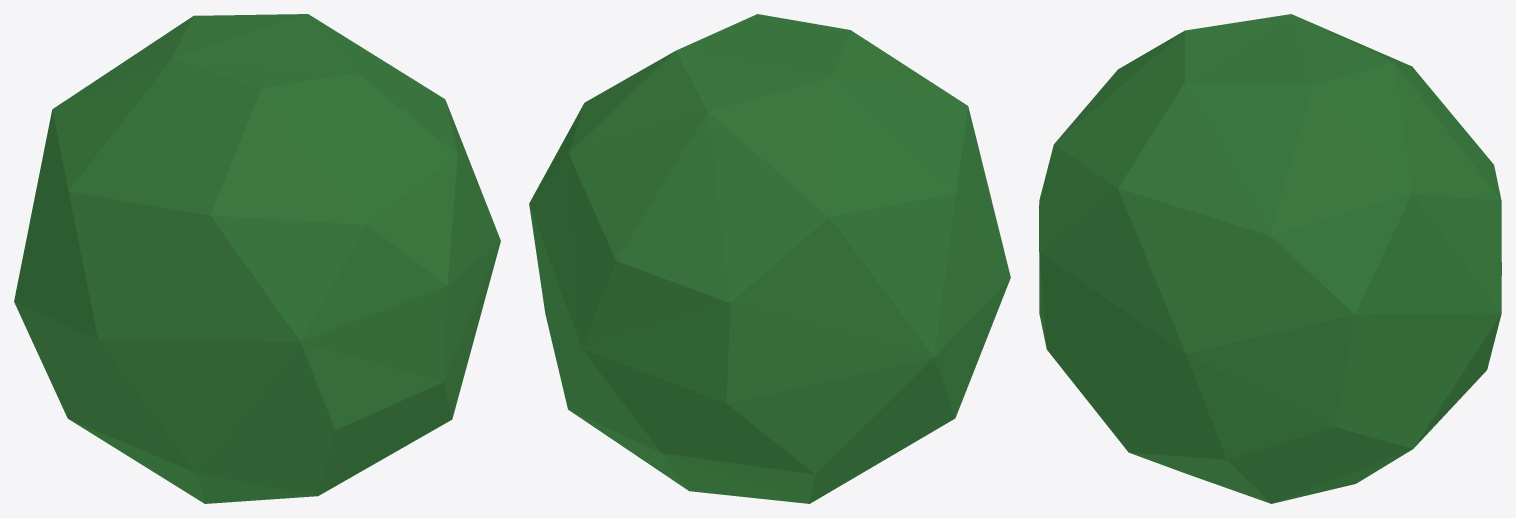
Rendered from shrub-round.glb.
3 renders of one model, left to right at view 1: azimuth 30°, elevation 25°; view 2: azimuth 150°, elevation 25°; view 3: azimuth 270°, elevation 25°, orthographic.
Visible parts, largest first — view 1: shrub-round; view 2: shrub-round; view 3: shrub-round.
Boxes of the visible parts, x1,y1,x2,y2 form: shrub-round: [14, 14, 500, 503]; shrub-round: [529, 14, 1010, 503]; shrub-round: [1039, 14, 1501, 503].
Size of the model in its own units: 1.46 by 1.46 by 1.47.
Materials: 1 (1 with a texture image).
